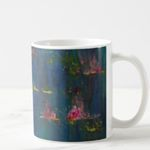cups: (25, 37, 150, 148)
